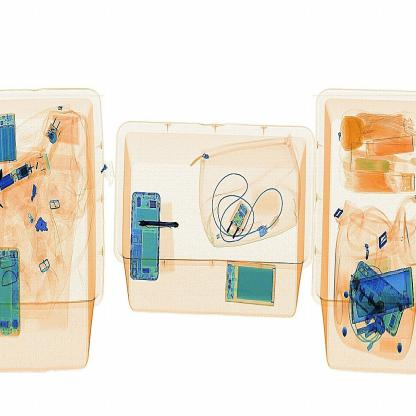knife: (137, 215, 183, 234)
